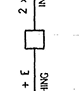Cable Termination Box: (20, 26, 52, 54)
